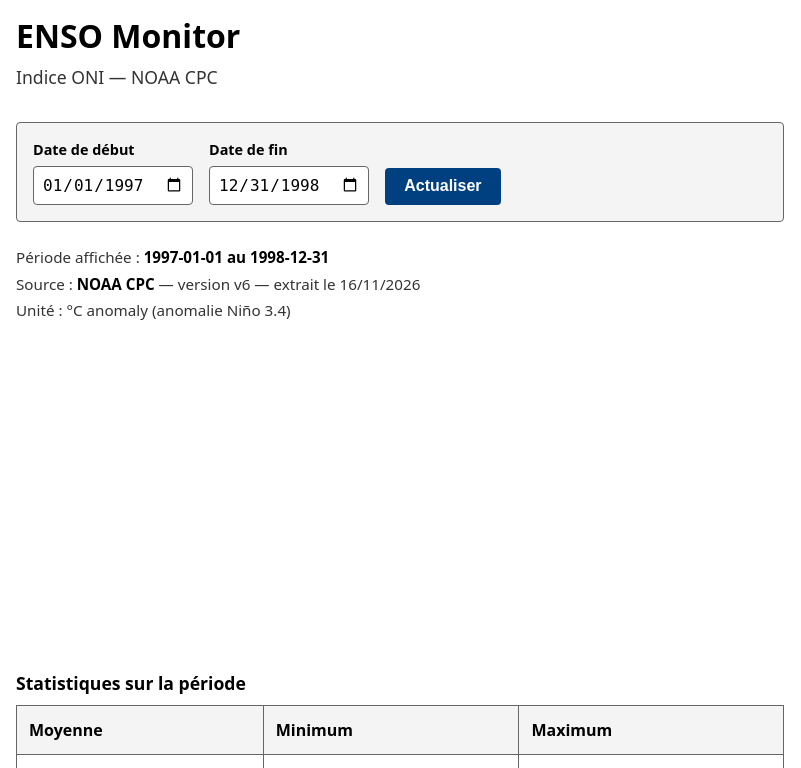
Test: App › met à jour les valeurs affichées après changement de période
The image size is (801, 768).
Type "2015-01-01" into the date field labelled "Date de début" at (113, 185), box [33,166,193,205]
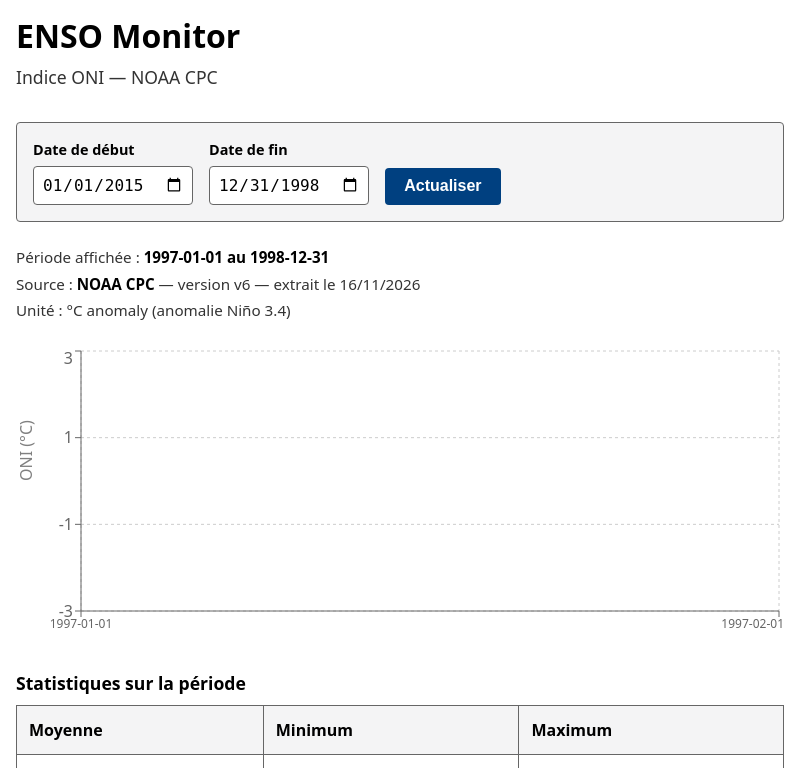
Type "2016-12-31" into the date field labelled "Date de fin" at (289, 185), box [209,166,369,205]
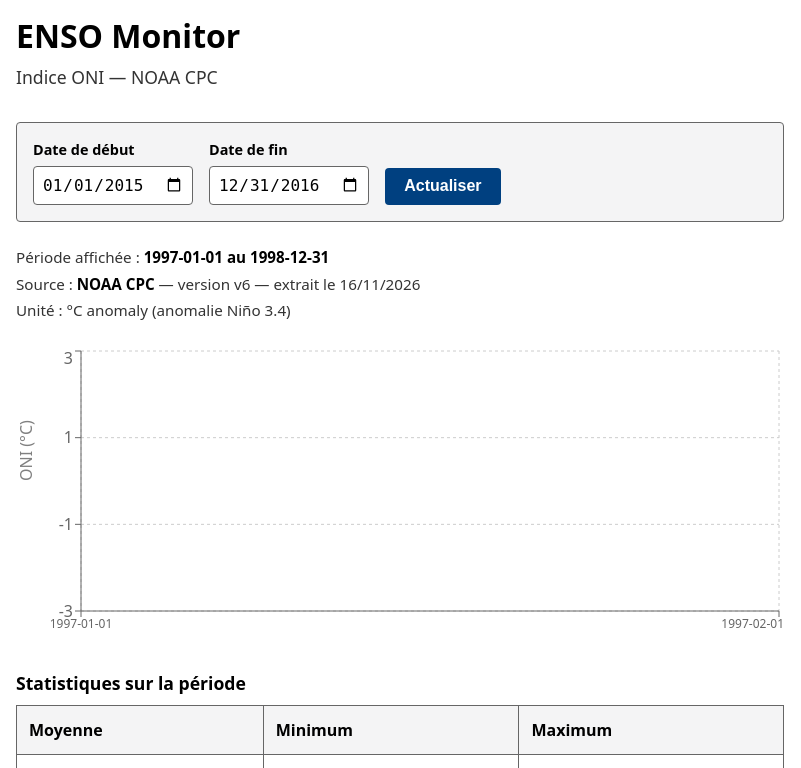
Click the button "Actualiser" at (443, 186), box [385,168,501,205]
(page scrolled)
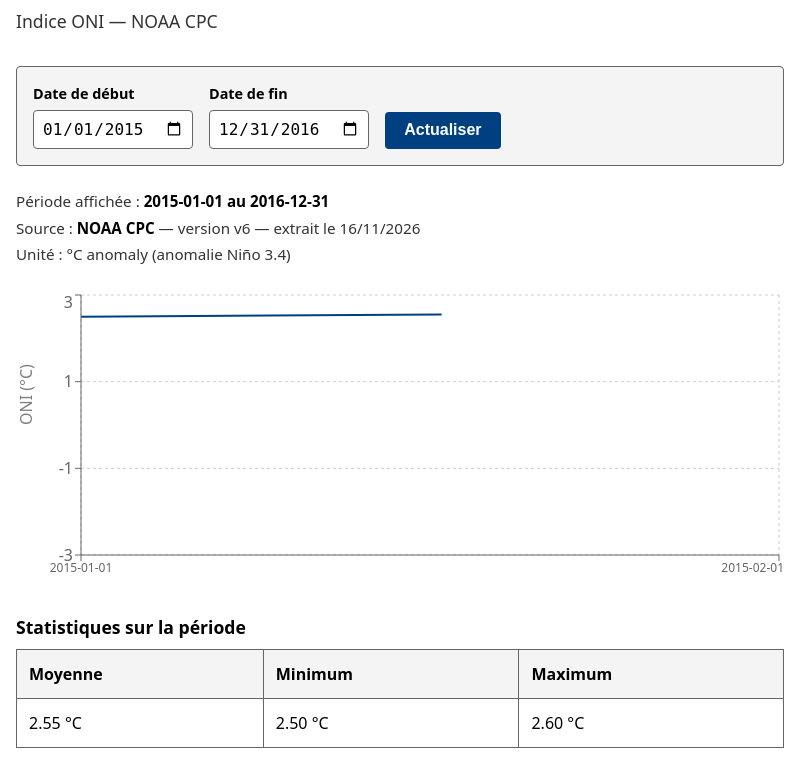
Expected: the text "2.60 °C" is shown, [519,698,784,747]
